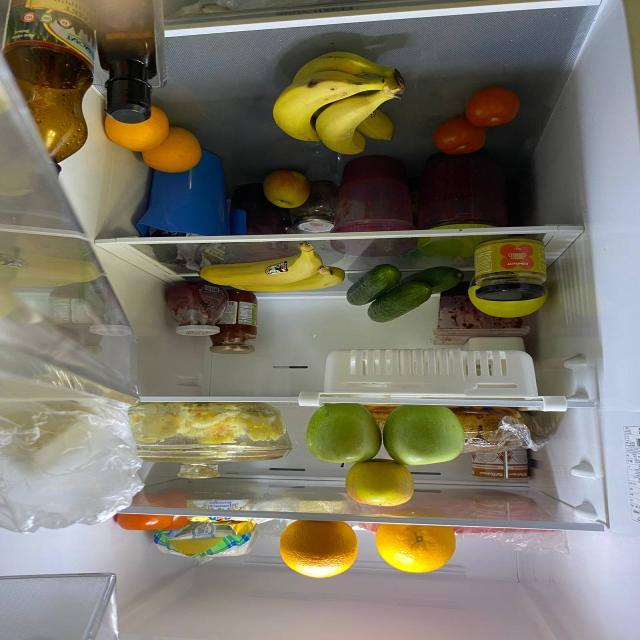Apple: (304, 405, 392, 468), (382, 407, 468, 466), (348, 462, 424, 509), (256, 172, 312, 206)
Banana: (266, 48, 401, 156), (189, 254, 327, 283), (230, 272, 344, 294)
Cucumber: (368, 284, 431, 327), (346, 267, 408, 309), (406, 272, 466, 294)
Orange: (373, 520, 458, 572), (93, 103, 175, 154), (282, 518, 354, 576), (144, 126, 207, 177)
Tomato: (464, 88, 524, 133), (431, 120, 481, 157), (152, 489, 194, 530), (118, 509, 174, 538)
